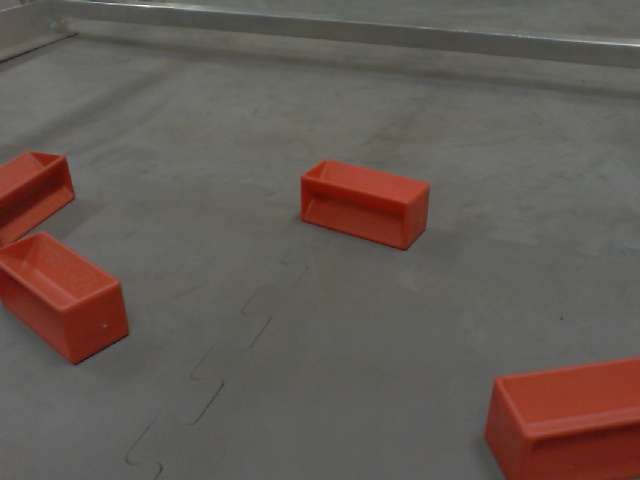RedSample: (482, 356, 640, 479), (1, 231, 131, 365), (299, 156, 432, 260), (1, 149, 78, 245)
